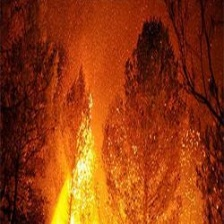fire: (50, 78, 203, 224)
